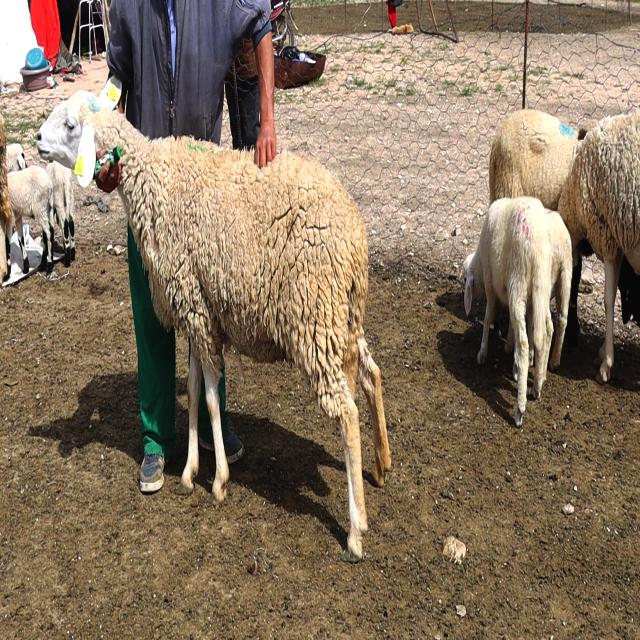Score_2: (37, 76, 391, 561)
